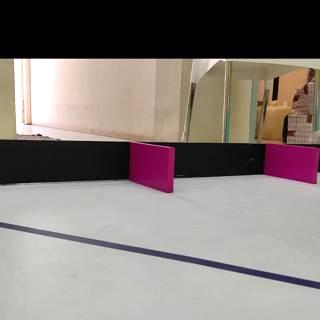xparking: (269, 146, 319, 185), (133, 148, 174, 192)
